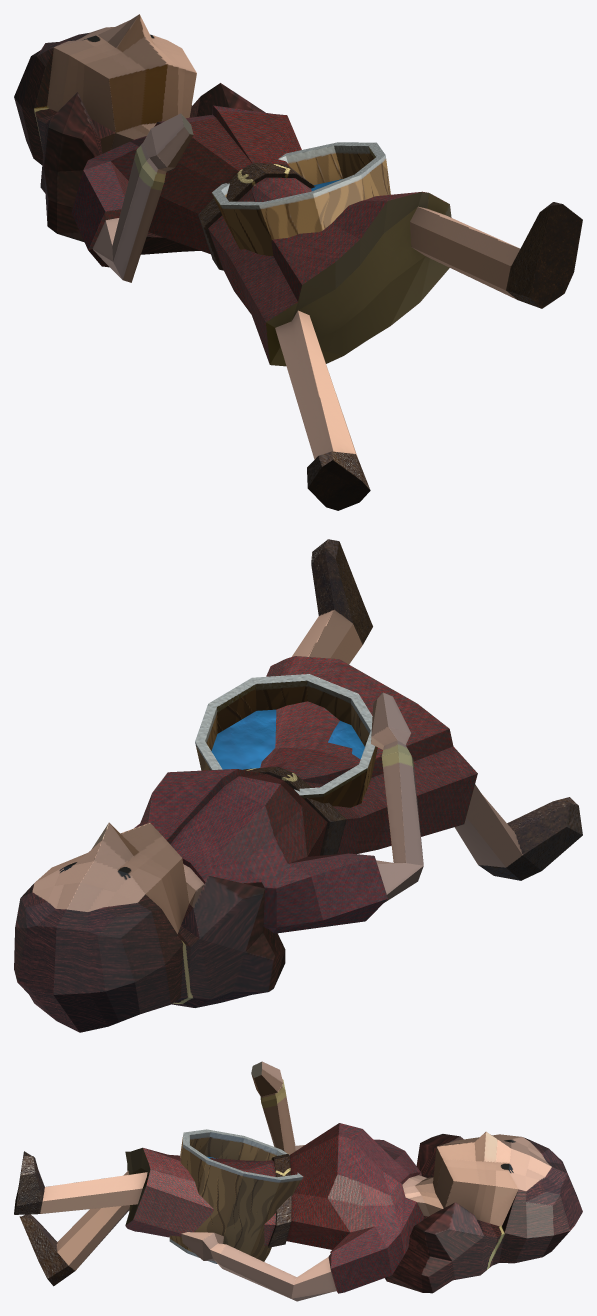
Rendered from Walk_Aldeana_18.obj.
3 views of the same model, one above another, from view 1: azimuth 30°, elevation 25°; view 2: azimuth 150°, elevation 25°; view 3: azimuth 270°, elevation 25° (orthographic). The views are drawn at different scales.
Visible parts, largest first — view 1: Aldeana.001; view 2: Aldeana.001; view 3: Aldeana.001.
Part boxes in pixels (x1,y1,x2,y2): Aldeana.001: (14,14,582,510); Aldeana.001: (14,539,582,1032); Aldeana.001: (14,1061,582,1301).
Bounding box in the file's own units: 1.02 × 0.9844 × 2.38.
